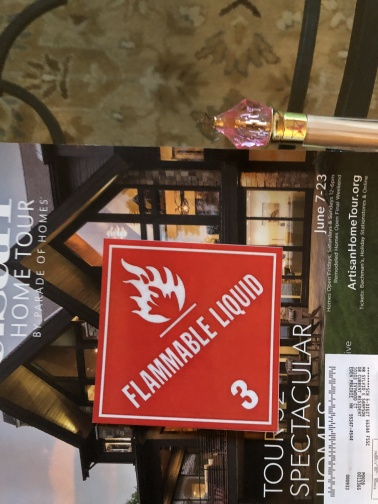FlammableLiquid: (102, 241, 286, 433)
